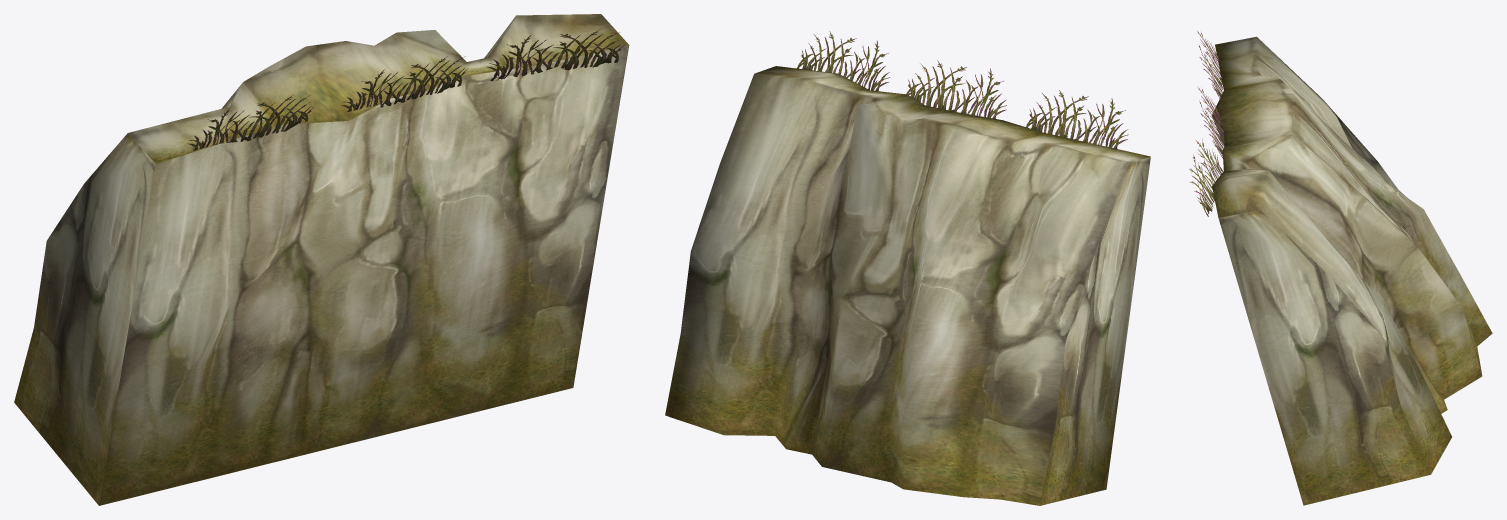
Rendered from a_SWCwallA03_1.glb.
3 views of the same model, side by side, from view 1: azimuth 30°, elevation 25°; view 2: azimuth 150°, elevation 25°; view 3: azimuth 270°, elevation 25° (orthographic). The views are drawn at different scales.
Visible parts, largest first — view 1: a_SWCwallA03_1; view 2: a_SWCwallA03_1; view 3: a_SWCwallA03_1.
Part boxes in pixels (bbox=[...]): a_SWCwallA03_1: bbox=[14, 14, 629, 505]; a_SWCwallA03_1: bbox=[665, 31, 1150, 505]; a_SWCwallA03_1: bbox=[1189, 31, 1492, 505].
Size of the model in its own units: 4.31 by 3.82 by 3.27.
Materials: 2 (2 with a texture image).
